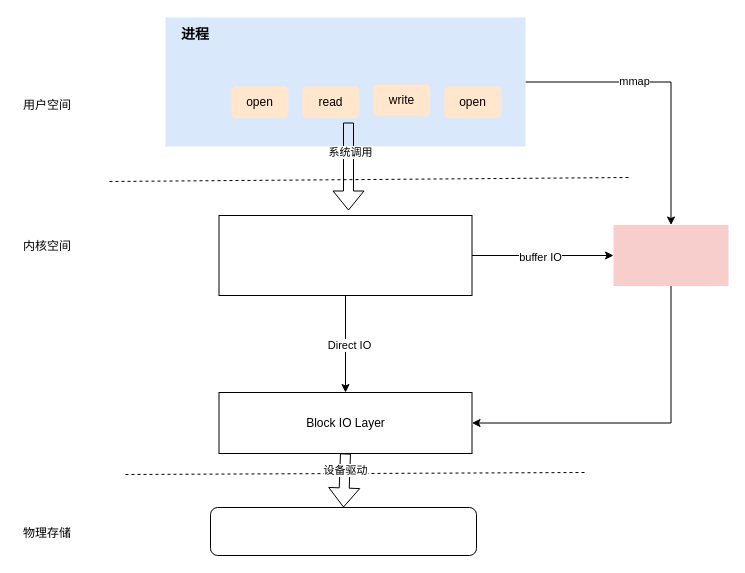
Image size: 745x573. Some labels were removed from this diagram. Here are the shapes that lost their labels. From the top down, the box of each, then its label:
(218, 214, 472, 296): VFS
(613, 224, 728, 286): Page Cache
(210, 506, 476, 556): HHD、SSD、NVME
